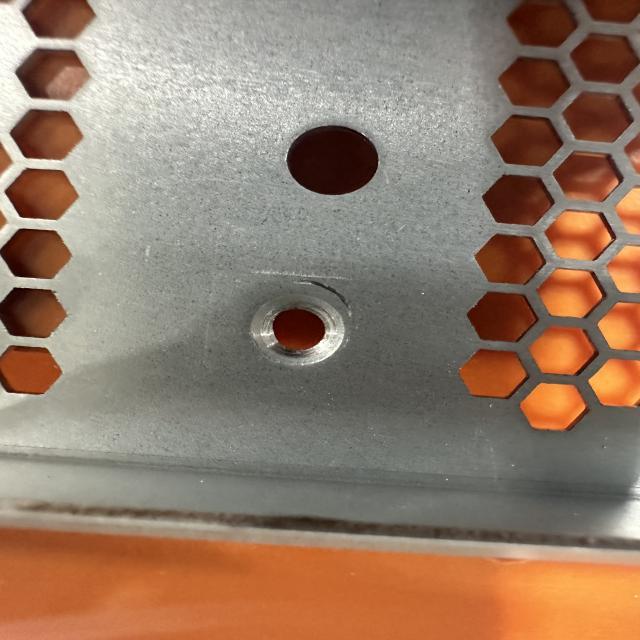Missing screw: (234, 286, 355, 373)
